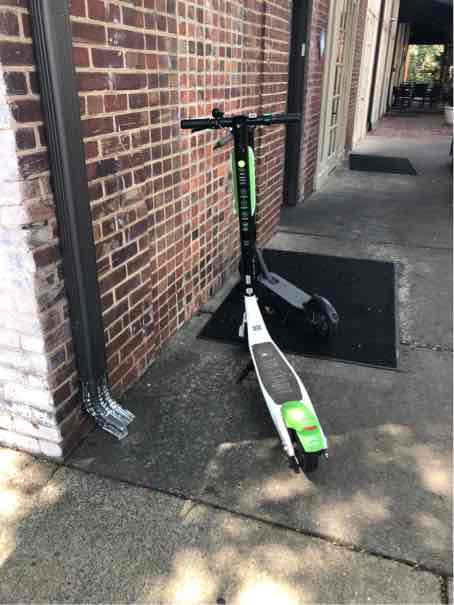scooter: (165, 98, 339, 487)
